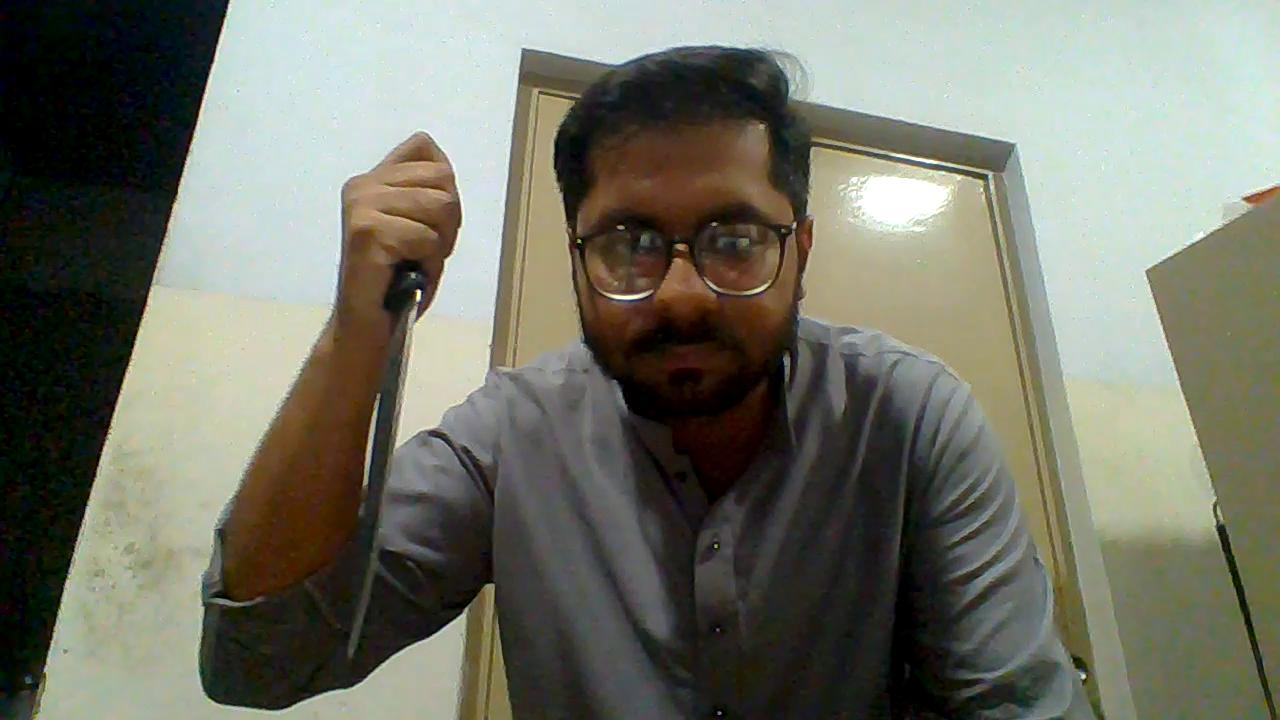criminal: (197, 43, 1100, 720)
weapon: (331, 257, 426, 662)
